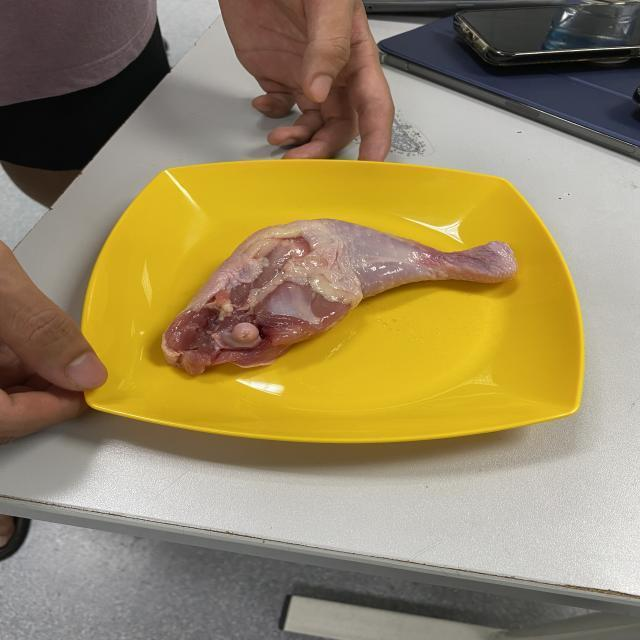quater: (158, 212, 524, 378)
